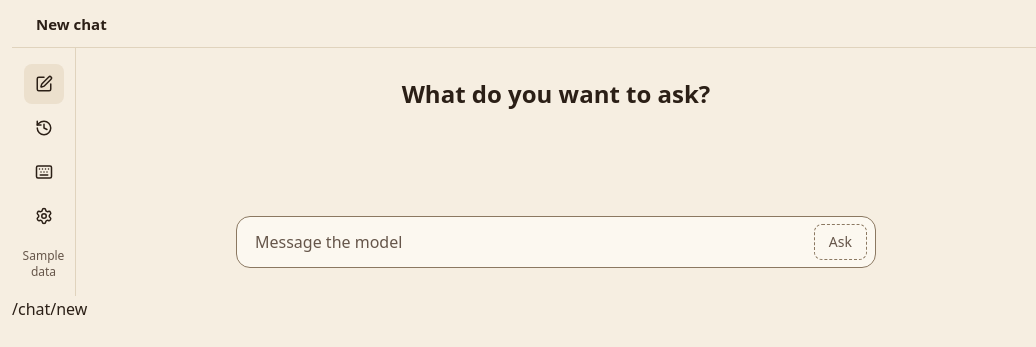
while an answer is being written › the words grow, the button is Stop, and Stop keeps the words and marks them Stopped
This screenshot has width=1036, height=347.
Type "Tell me something" into the text box labelled "Message the model" at (530, 242), box [255,224,806,260]
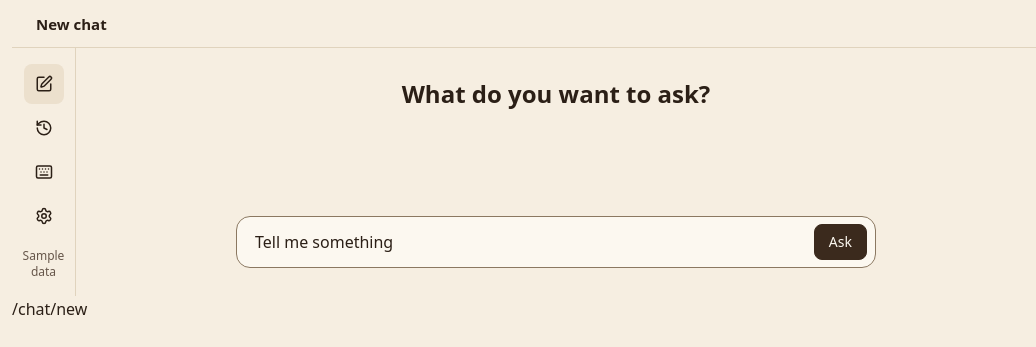
Press Enter in the text box named "Message the model", box [255,224,806,260]
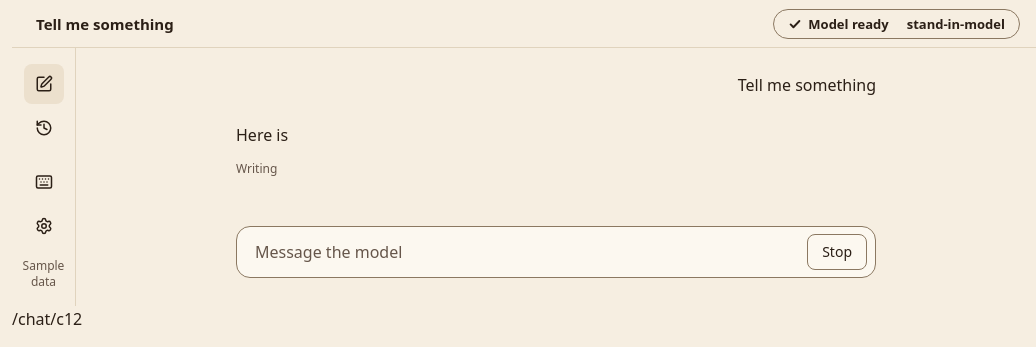
Check: the text "Writing" is shown, box [236,160,277,177]
Type "Another" into the text box labelled "Message the model" at (527, 252), box [255,234,799,270]
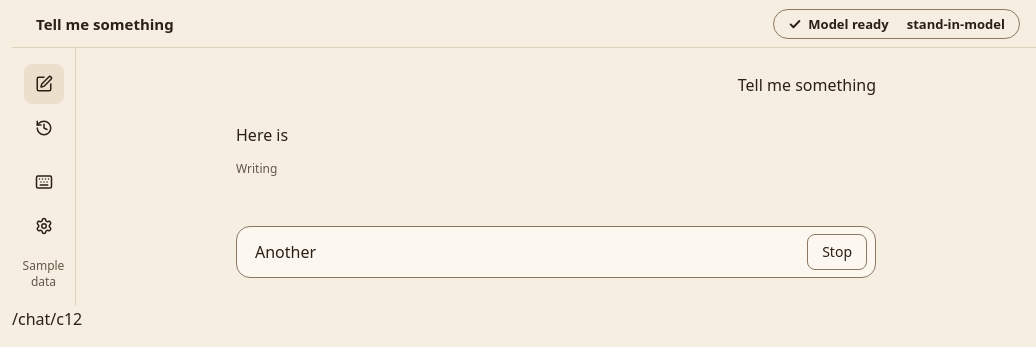
Press Enter in the text box named "Message the model", box [255,234,799,270]
Click the button "Stop" at (837, 252), box [807,234,867,270]
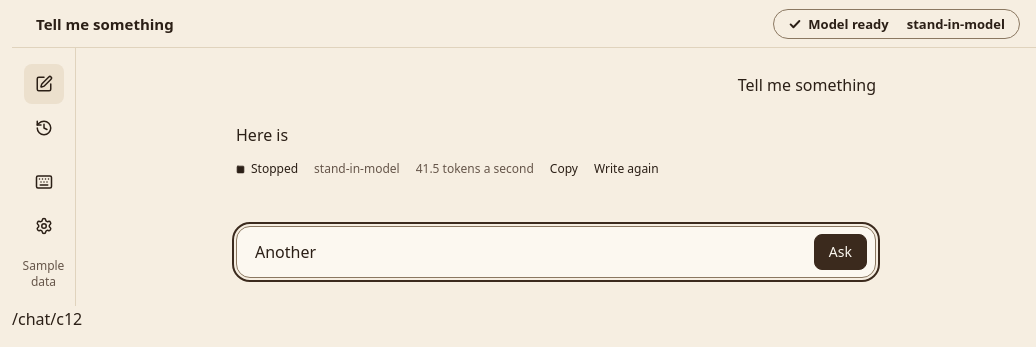
Check: the button "Ask" is shown, box [814,234,867,270]
Check: the button "Write again" is shown, box [586,156,667,182]
Check: the element showing "Stopped" is shown, box [236,161,298,177]
